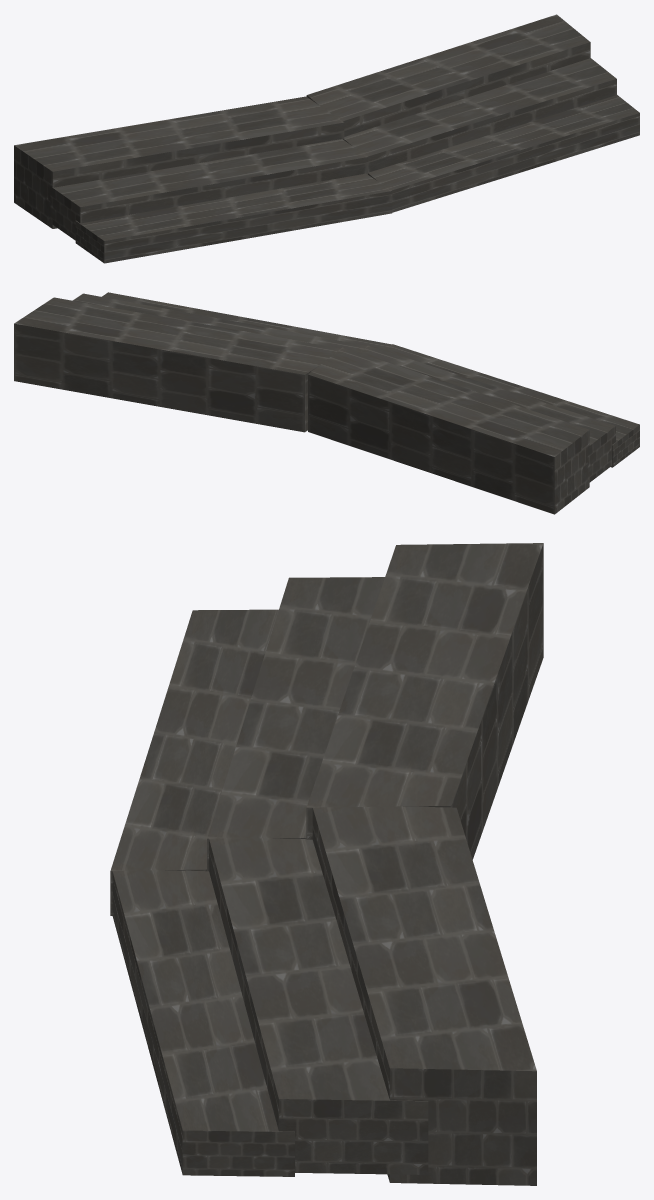
Rendered from tangga sc 4.fbx.
The picture shows the model from 3 angles, top to bottom: view 1: azimuth 30°, elevation 25°; view 2: azimuth 150°, elevation 25°; view 3: azimuth 270°, elevation 25°; orthographic projection. The views are drawn at different scales.
Parts seen in each view (by area): view 1: Plane.002, Plane.007, Plane.004, Plane.003, Plane.005, Plane.006; view 2: Plane.007, Plane.002, Plane.003, Plane.004, Plane.006, Plane.005; view 3: Plane.007, Plane.002, Plane.006, Plane.005, Plane.003, Plane.004.
Part boxes in pixels (left/top/right/bottom): Plane.002: left=14, top=96, right=344, bottom=228; Plane.007: left=306, top=14, right=590, bottom=136; Plane.004: left=75, top=173, right=392, bottom=263; Plane.003: left=50, top=139, right=367, bottom=240; Plane.005: left=368, top=95, right=639, bottom=212; Plane.006: left=343, top=58, right=616, bottom=172; Plane.007: left=14, top=297, right=340, bottom=432; Plane.002: left=308, top=347, right=589, bottom=514; Plane.003: left=359, top=345, right=615, bottom=483; Plane.004: left=385, top=344, right=639, bottom=467; Plane.006: left=73, top=293, right=367, bottom=352; Plane.005: left=102, top=292, right=392, bottom=350; Plane.007: left=312, top=806, right=536, bottom=1185; Plane.002: left=306, top=543, right=543, bottom=859; Plane.006: left=208, top=837, right=428, bottom=1174; Plane.005: left=112, top=870, right=294, bottom=1176; Plane.003: left=207, top=577, right=384, bottom=871; Plane.004: left=110, top=609, right=278, bottom=915.
Bounding box in the file's own units: 6038 × 611 × 2092.
